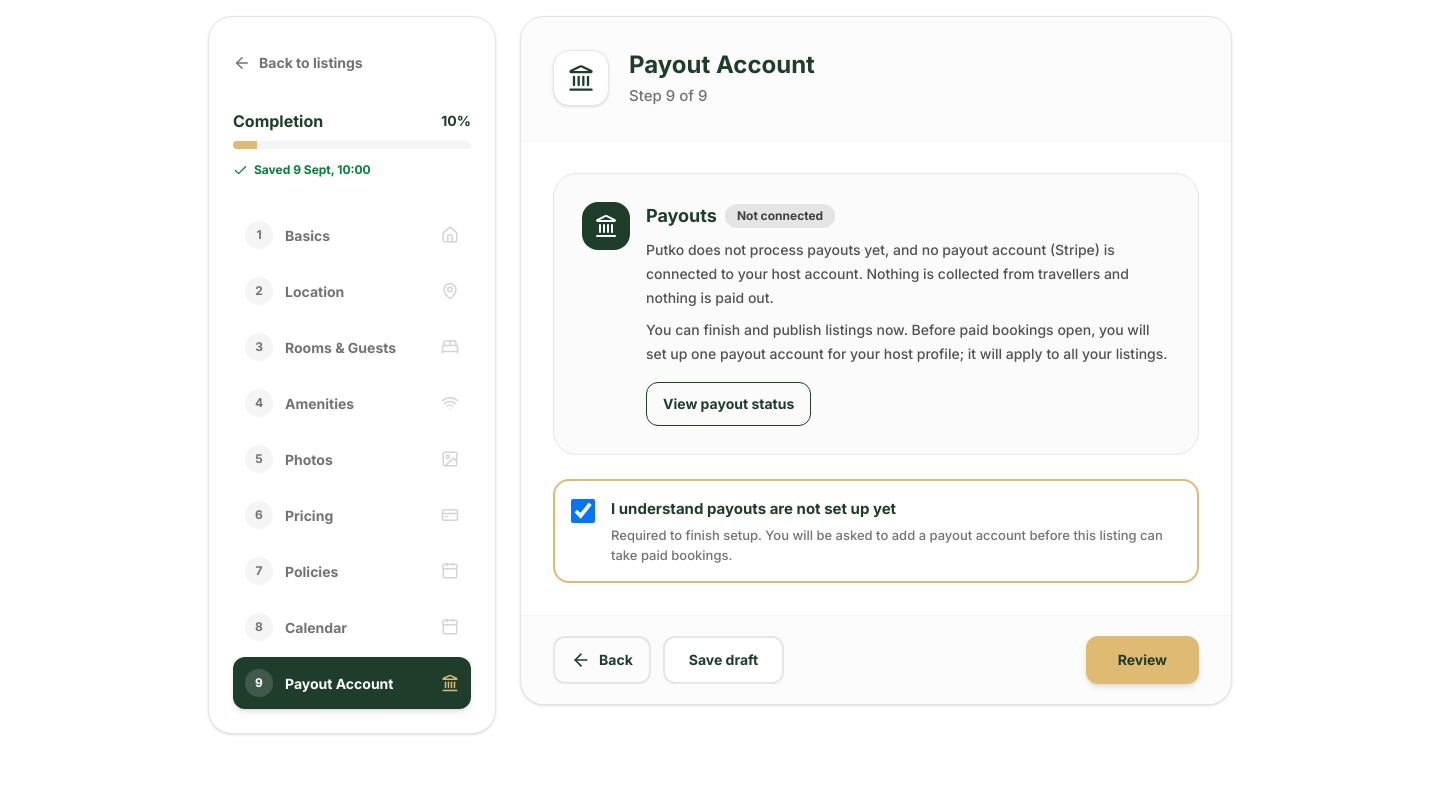
Scenario: AccommodationForm save lifecycle and validation › review links open the owning step, focus the field, and offer a way back to review
Click the button "Review" at (1142, 660), box [1086,636,1199,684]
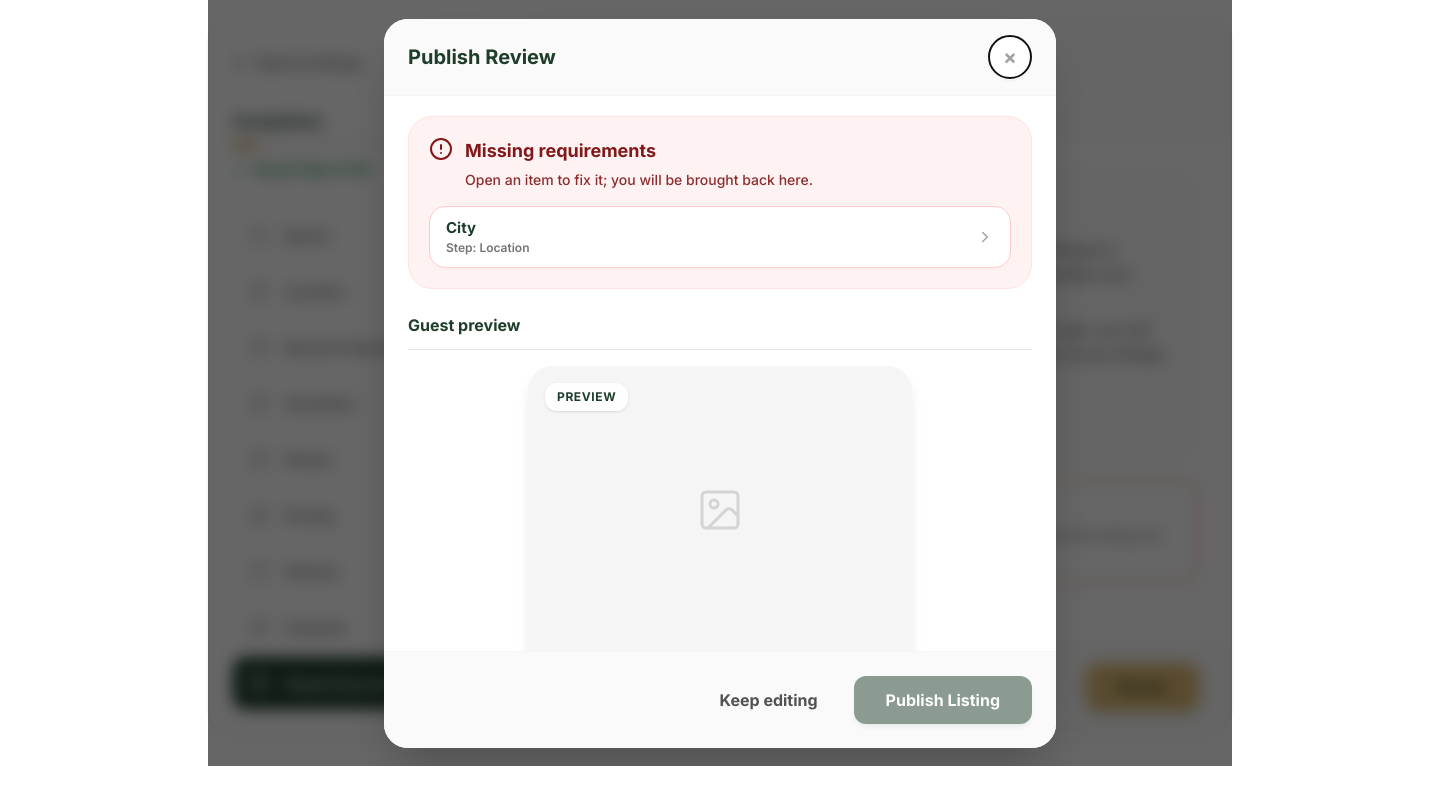
Now the heading "Publish Review" is shown, box [408,42,556,70]
Now the button "Publish Listing" is disabled, box [854,676,1032,724]
Click the button "City Step: Location" at (461, 227), box [429,206,1011,268]
Wait 20 ms
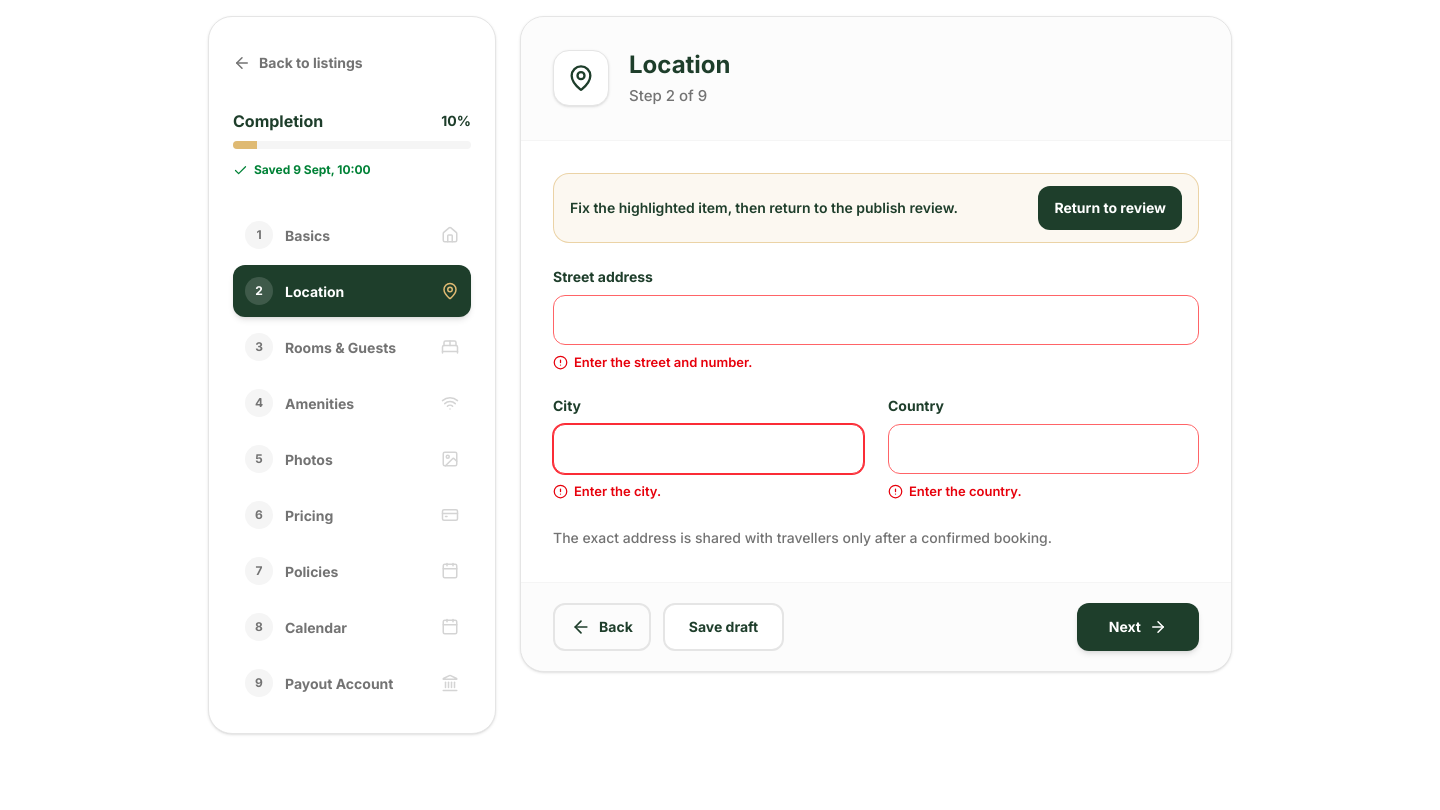
Now the dialog is gone
Now the field with id "listing-field-city" is shown
Now the text "Enter the city." is shown, box [574,482,661,502]
Type "Poprad" into the field with id "listing-field-city" at (708, 449), box [553,424,864,474]
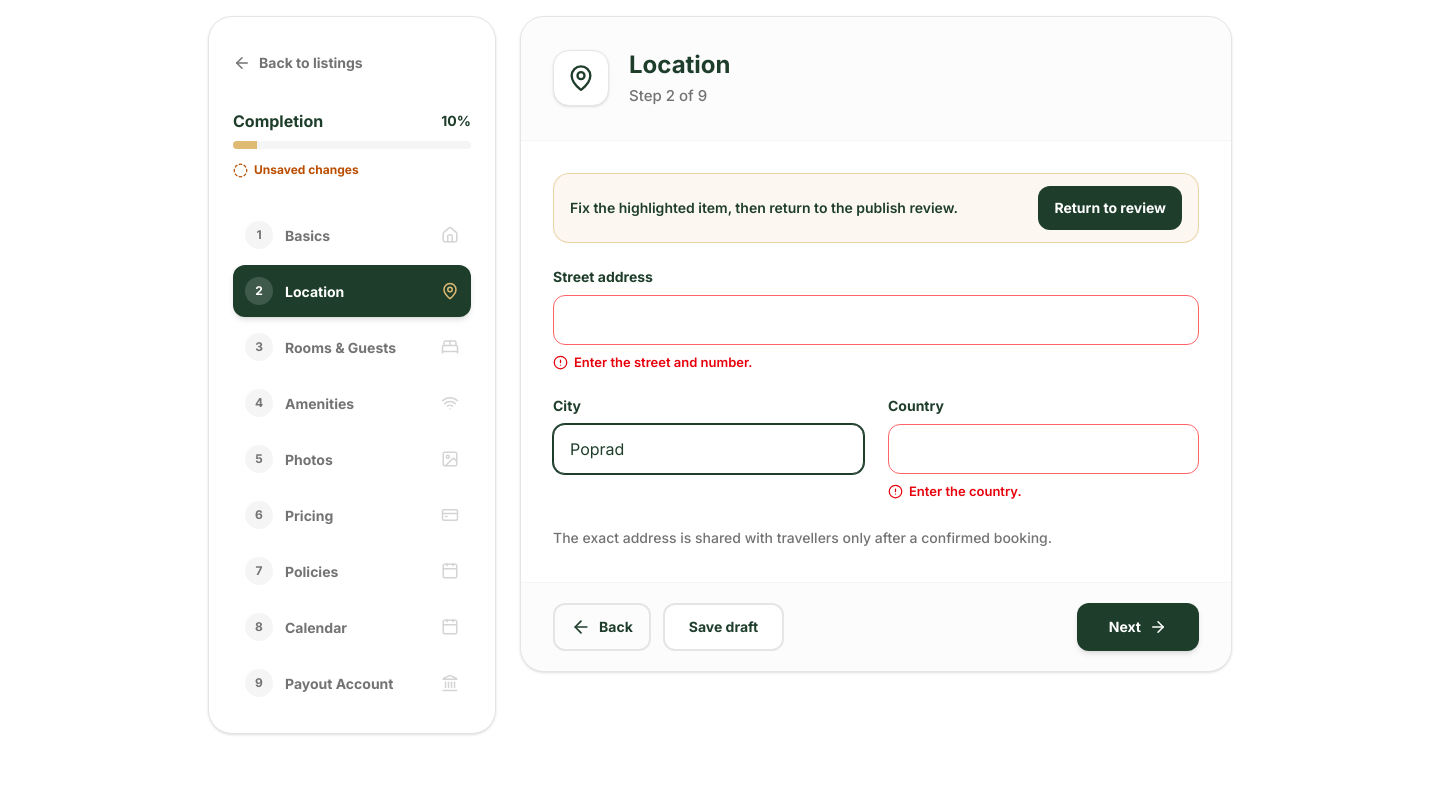
Click the button "Return to review" at (1110, 208), box [1038,186,1182,230]
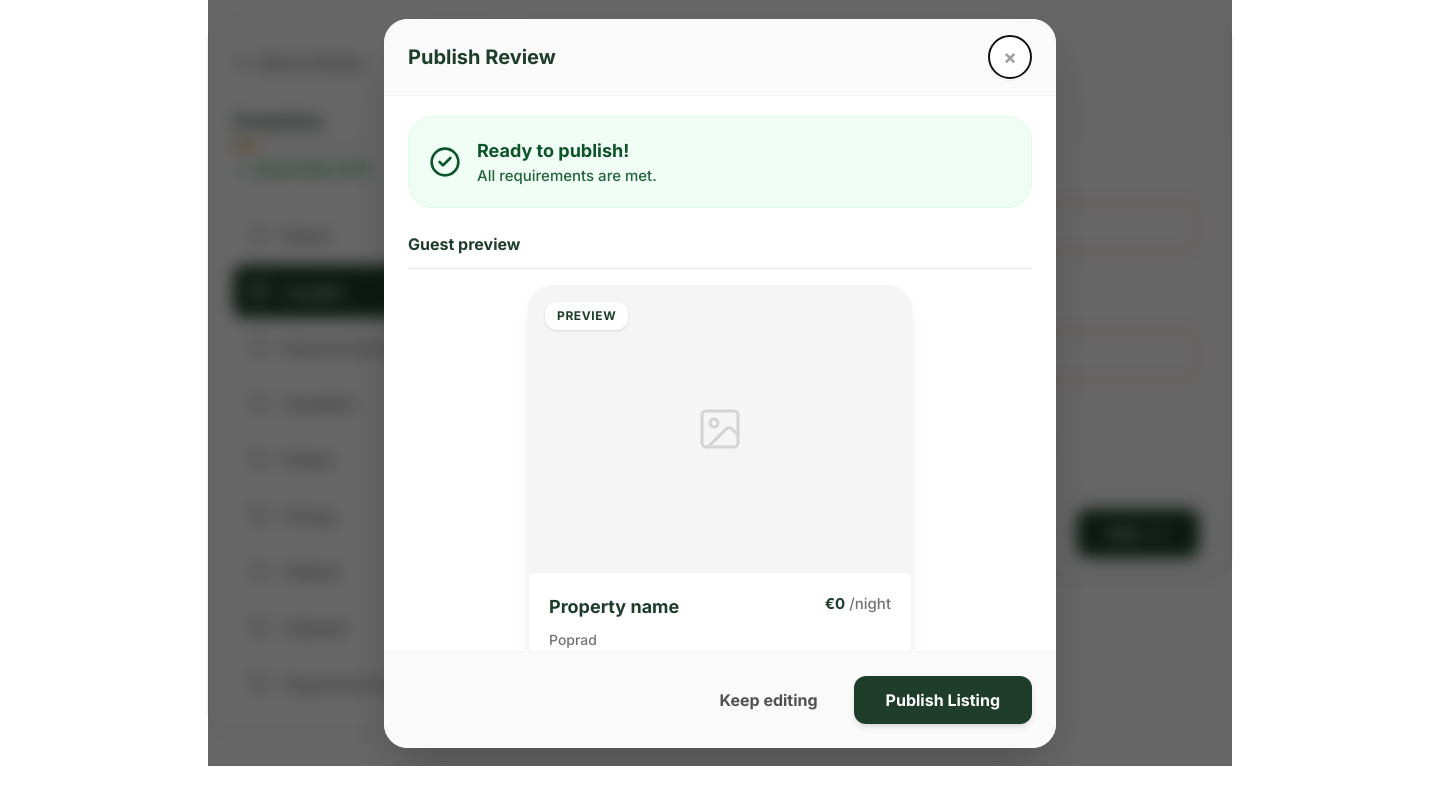
Now the dialog "Publish Review" is shown, box [384,18,1056,748]
Now the button "Publish Listing" is enabled, box [854,676,1032,724]
